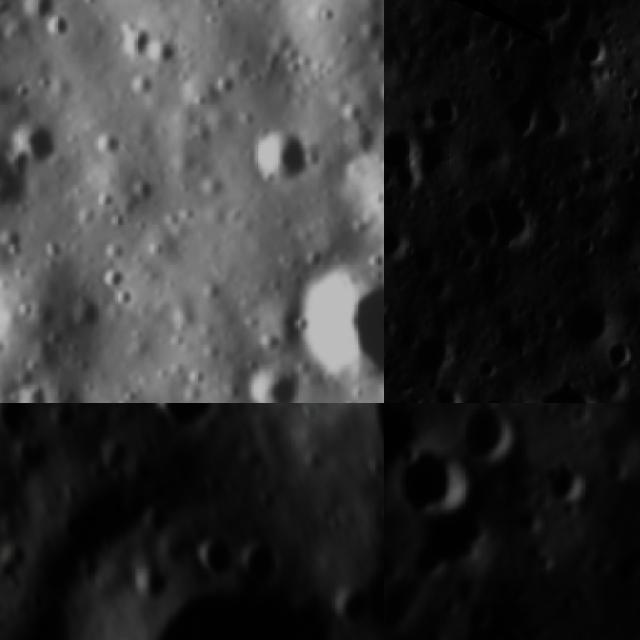crater: (93, 522, 384, 640), (277, 240, 384, 403), (239, 119, 318, 201), (397, 450, 473, 520), (461, 403, 528, 465), (236, 528, 294, 597), (237, 357, 308, 403), (11, 111, 63, 172), (185, 529, 242, 582), (384, 403, 430, 462), (451, 192, 496, 250), (0, 133, 29, 222), (145, 403, 231, 432), (546, 460, 594, 510), (109, 19, 157, 67), (499, 92, 539, 143), (384, 121, 419, 176), (130, 567, 175, 607), (460, 595, 500, 640), (531, 379, 604, 403), (148, 33, 188, 76), (574, 28, 616, 68), (533, 100, 572, 140), (602, 451, 638, 494), (94, 255, 132, 295), (0, 403, 34, 446), (600, 334, 636, 372), (7, 377, 58, 403), (37, 7, 74, 42), (426, 92, 461, 129), (384, 219, 414, 261), (42, 403, 80, 436), (418, 268, 456, 299), (28, 387, 97, 403), (488, 618, 537, 640), (422, 377, 462, 403), (570, 230, 603, 259), (470, 357, 503, 381), (477, 391, 512, 403)
